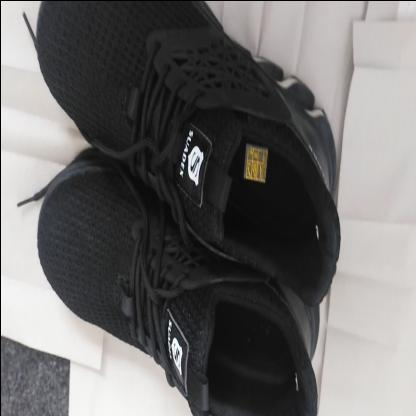safety-shoe: (34, 0, 340, 416)
